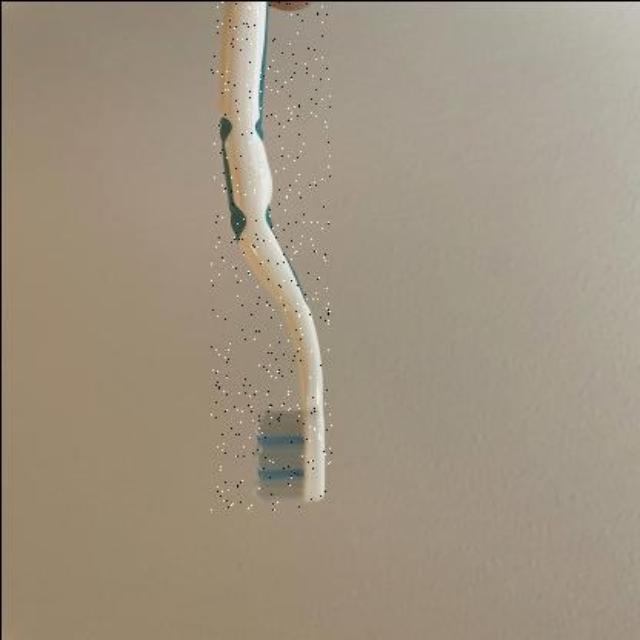toothbrush: (210, 1, 330, 510)
